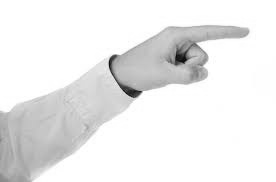pointing_gesture: (122, 25, 251, 88)
